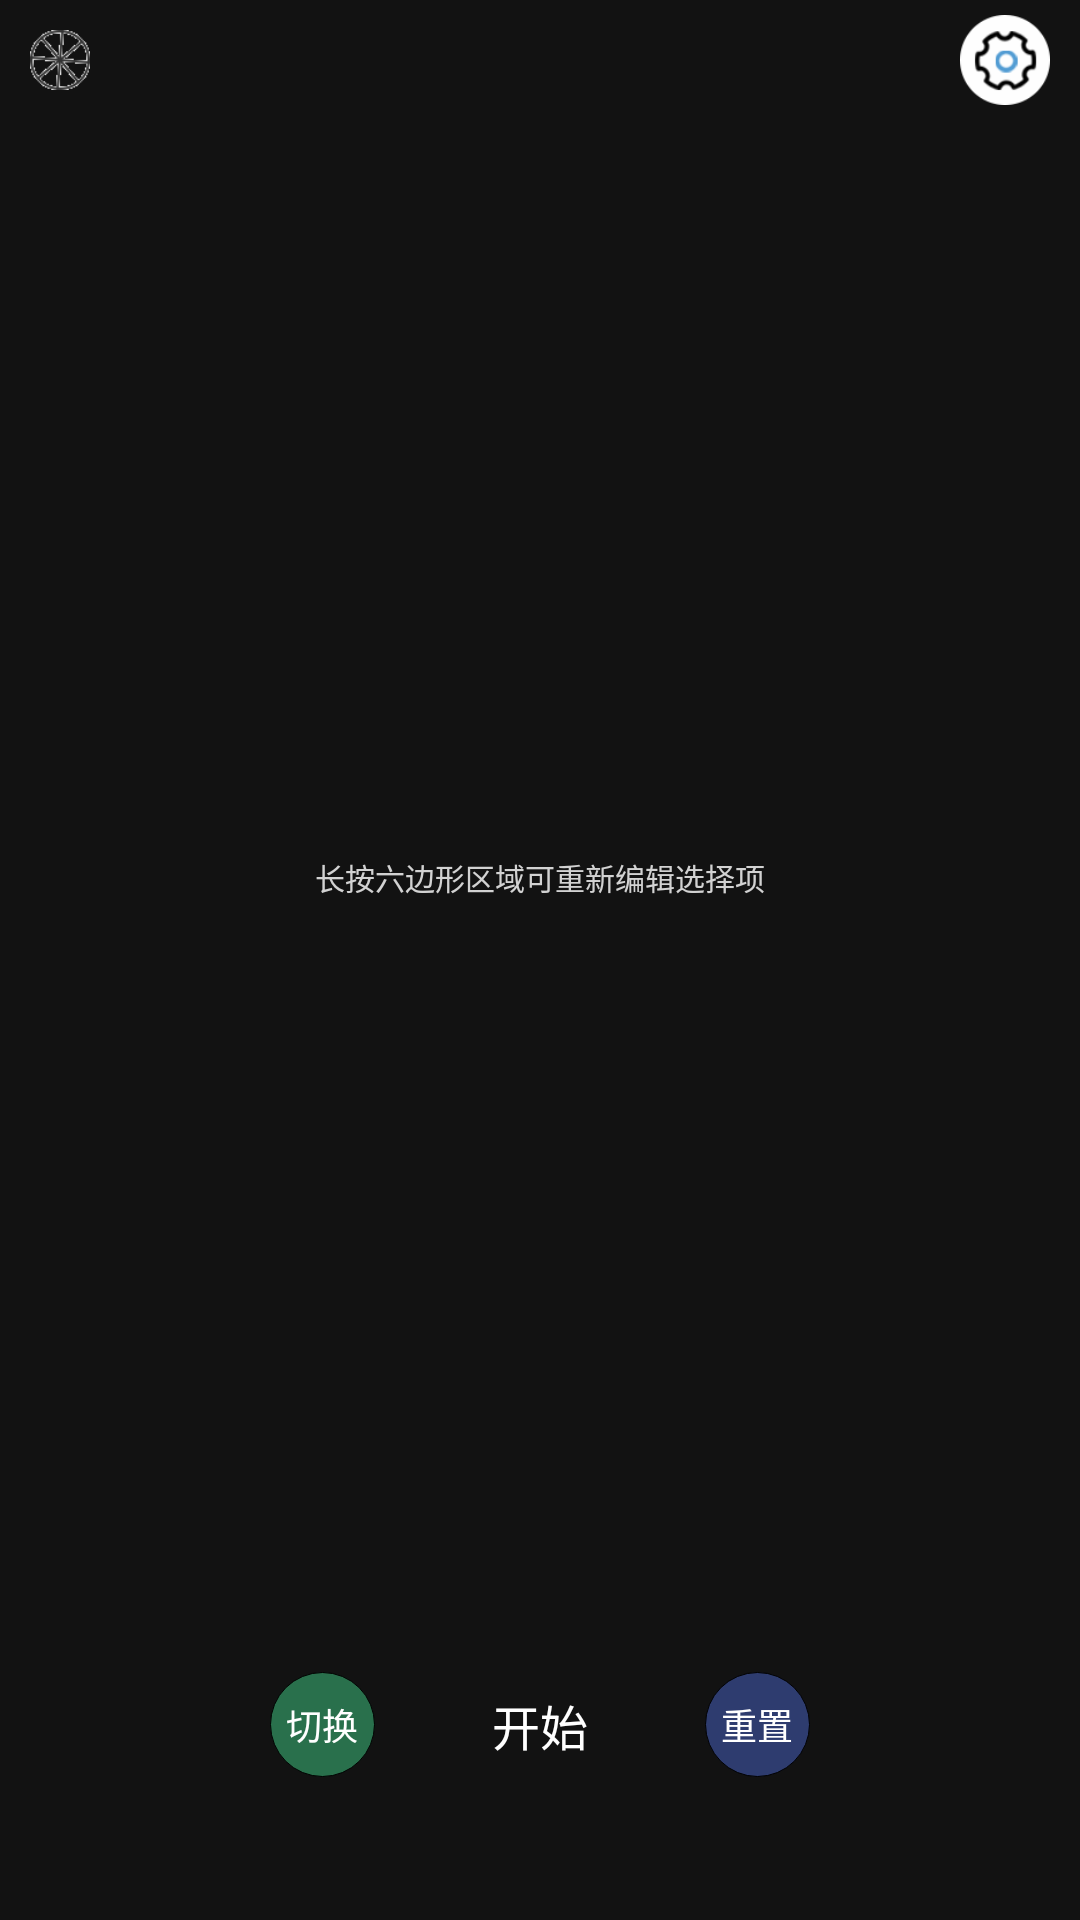

Named icons in this screenshot (1080×1920) and their bounding boxes, box(x1, y1, x2, y2):
setting: box(960, 15, 1050, 105)
turn table: box(30, 30, 90, 90)
